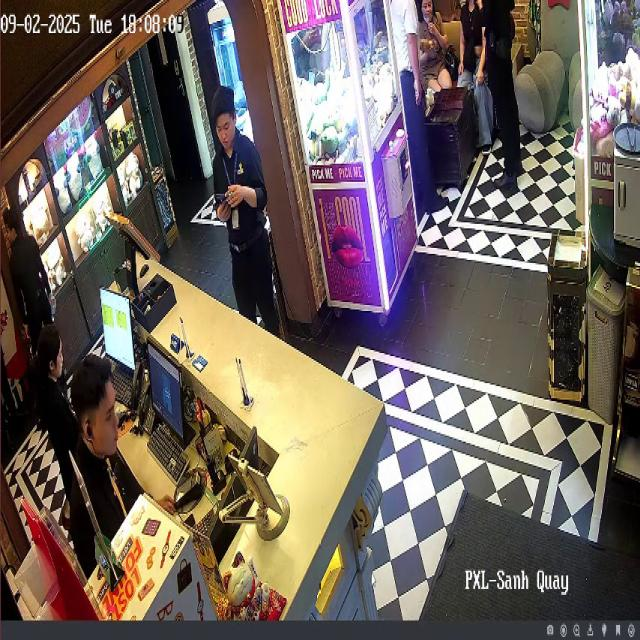khach: (392, 0, 450, 228), (458, 7, 503, 164), (419, 0, 458, 119)
nhan vien: (209, 82, 283, 372), (70, 345, 140, 592), (3, 199, 59, 425), (28, 311, 77, 552), (478, 0, 528, 191)
